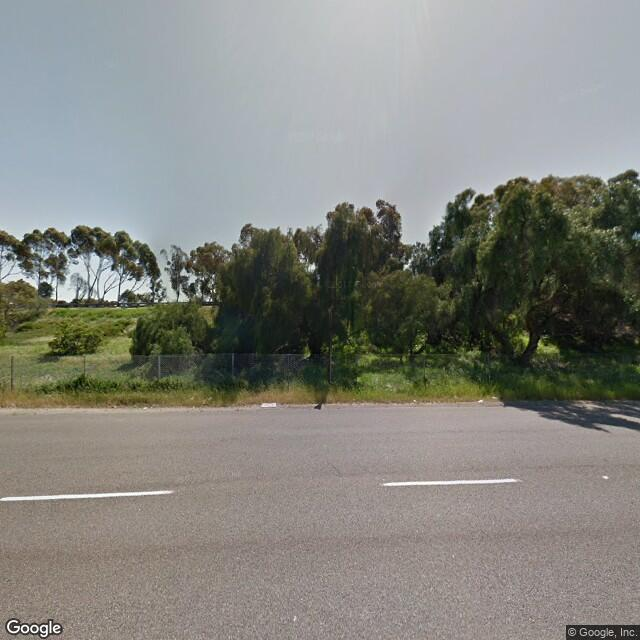litter: (261, 400, 279, 407)
